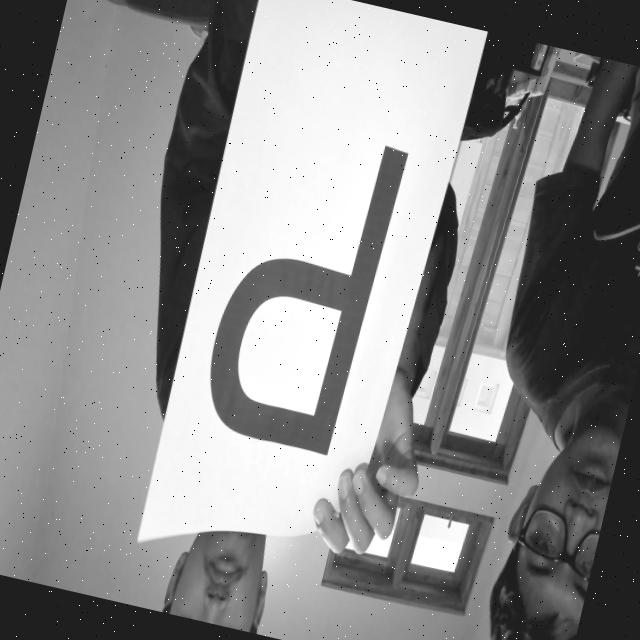p: (184, 72, 420, 482)
